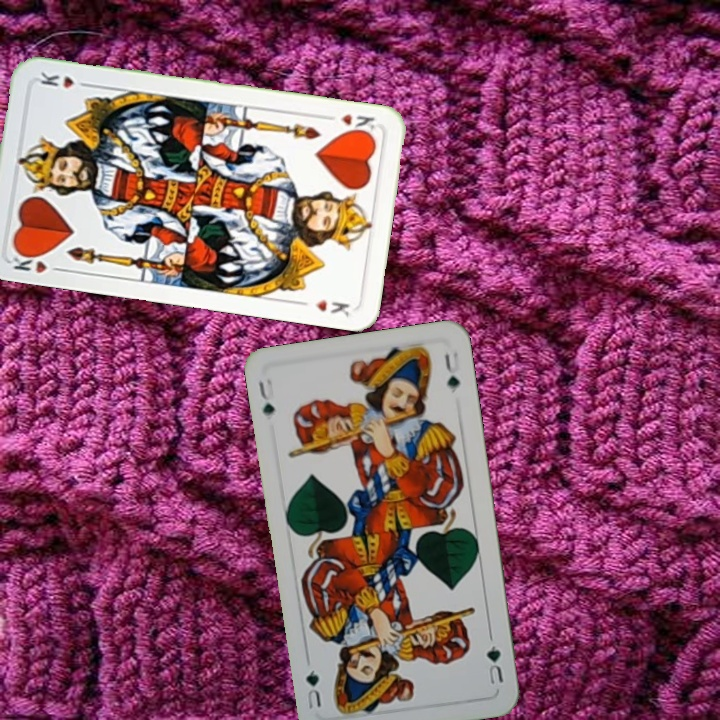GU: (482, 641, 506, 687), (254, 374, 277, 419)
HK: (7, 246, 66, 276), (337, 109, 377, 137)
